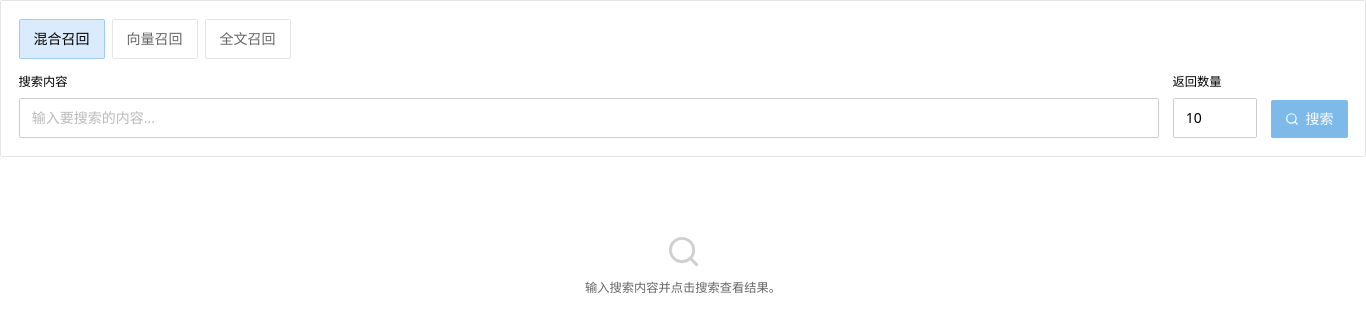
Test: KbSearchTab › hides the hybrid score explanation for vector-only searches
Click the button "向量召回": (154, 39) [112,18,198,59]
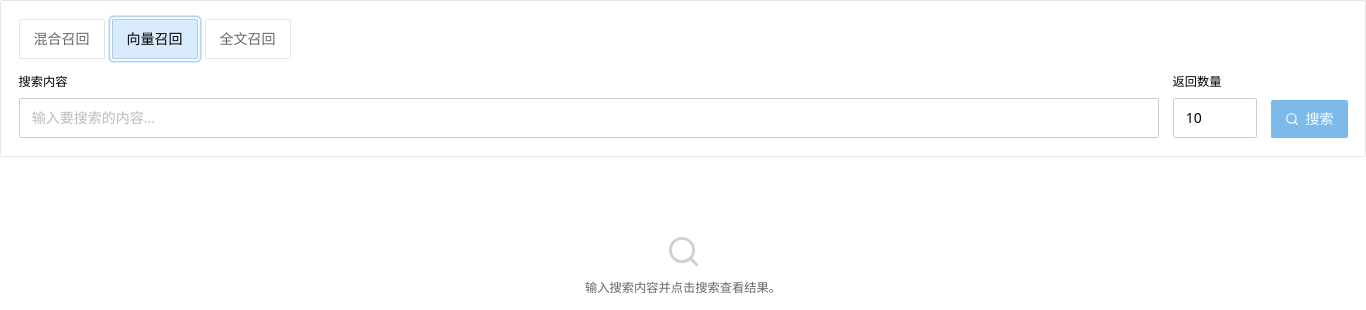
In the field labelled "搜索内容": (588, 118) [18,98,1158,138], type "shipping"
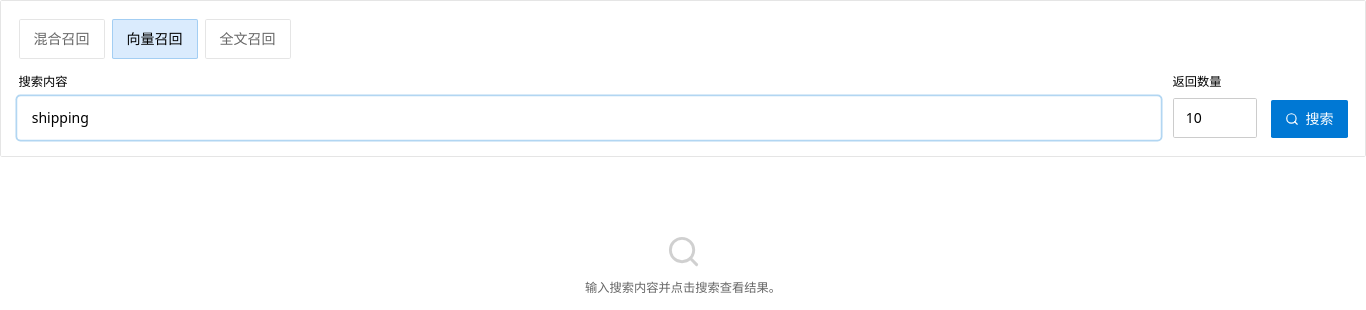
Click the button "搜索": (1309, 119) [1270,100,1348,138]
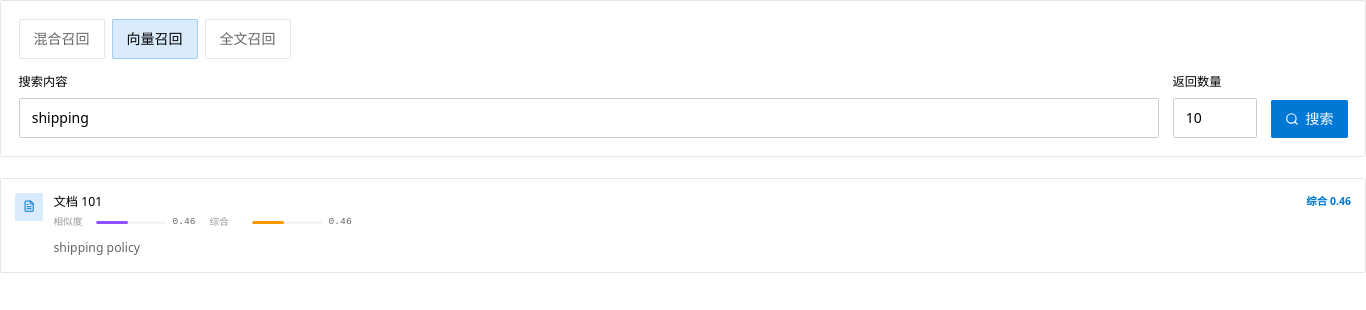
Expected: the text "相似度" is shown, [54,215,82,228]
